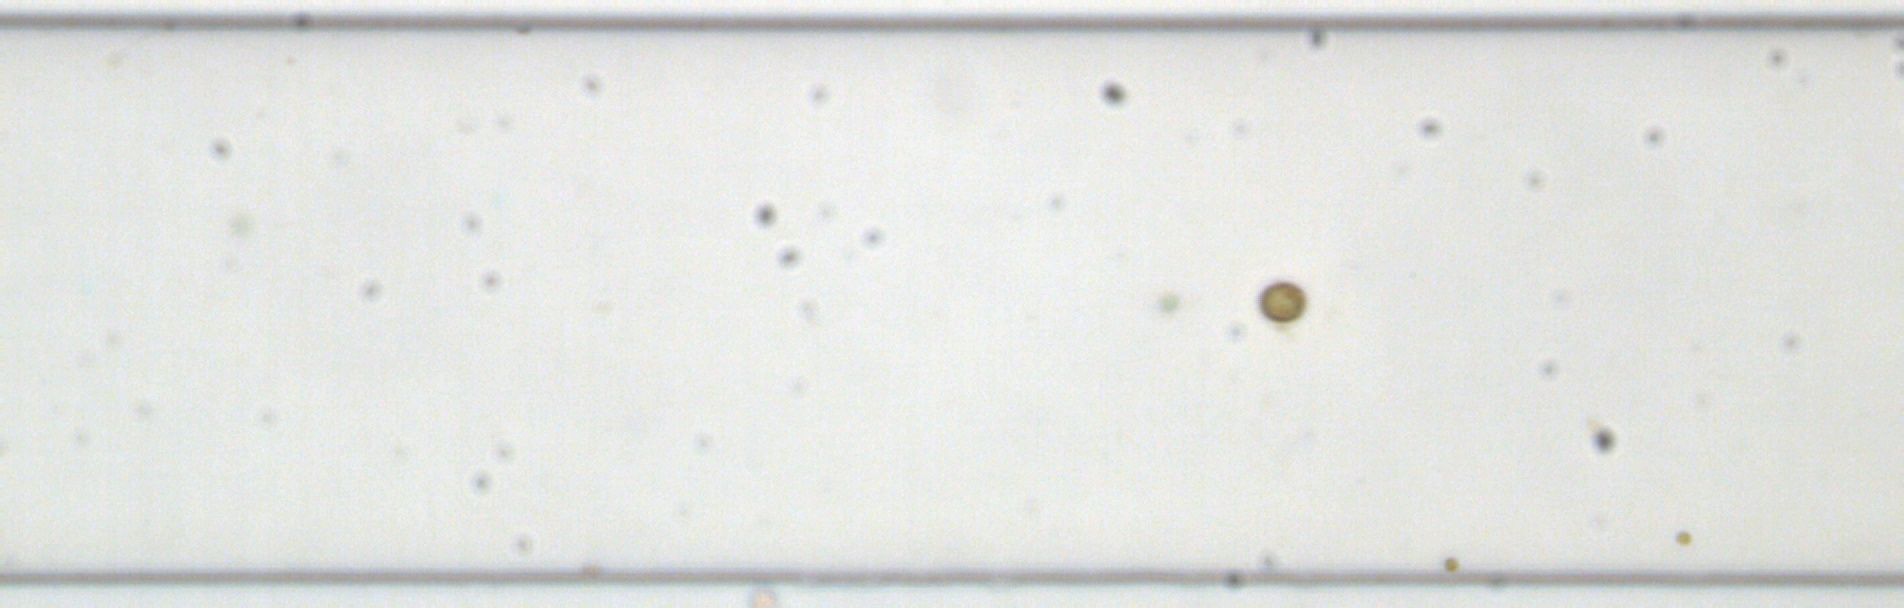Chlorella: (1672, 528, 1691, 549), (1157, 291, 1175, 312), (1441, 558, 1460, 574)
